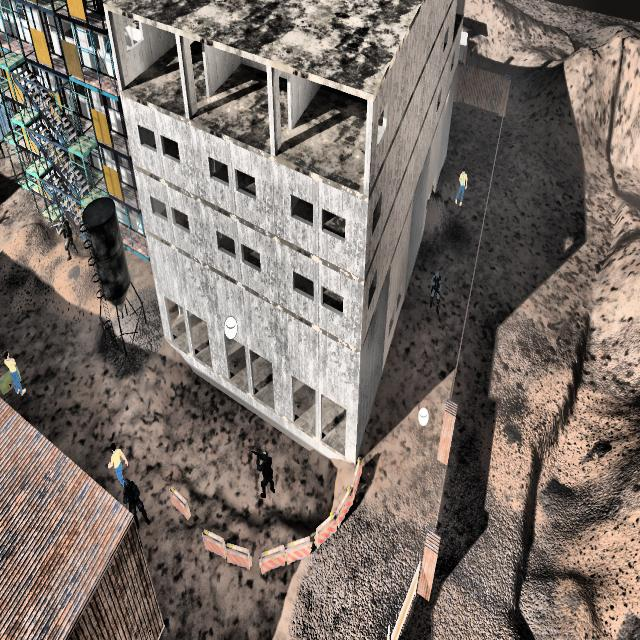bad: (253, 434, 279, 508), (56, 206, 80, 266), (124, 476, 150, 530), (428, 266, 444, 315)
good: (3, 343, 27, 414), (109, 432, 128, 486), (454, 161, 470, 213)
